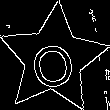O_N: (27, 29, 80, 89)
